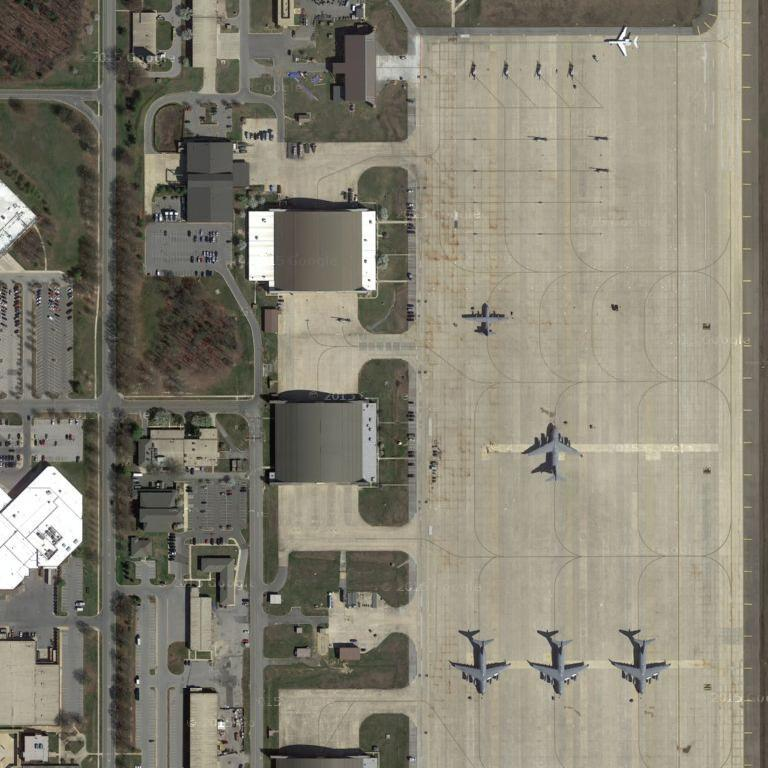C-130: (460, 302, 509, 339)
C-17: (610, 632, 673, 699), (523, 420, 584, 486), (527, 636, 587, 702), (448, 636, 511, 698)
